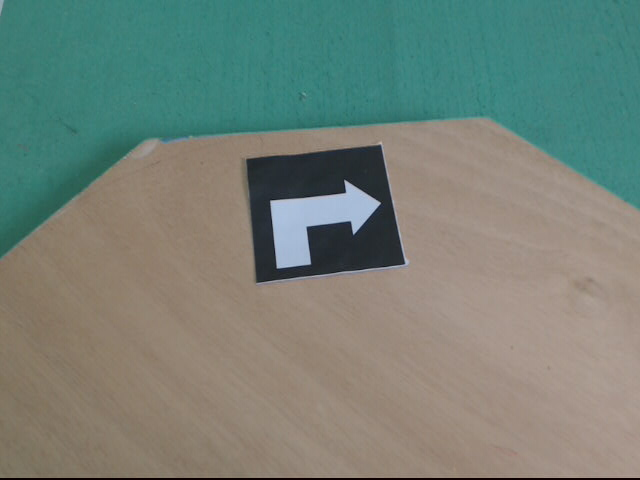right: (247, 144, 410, 283)
